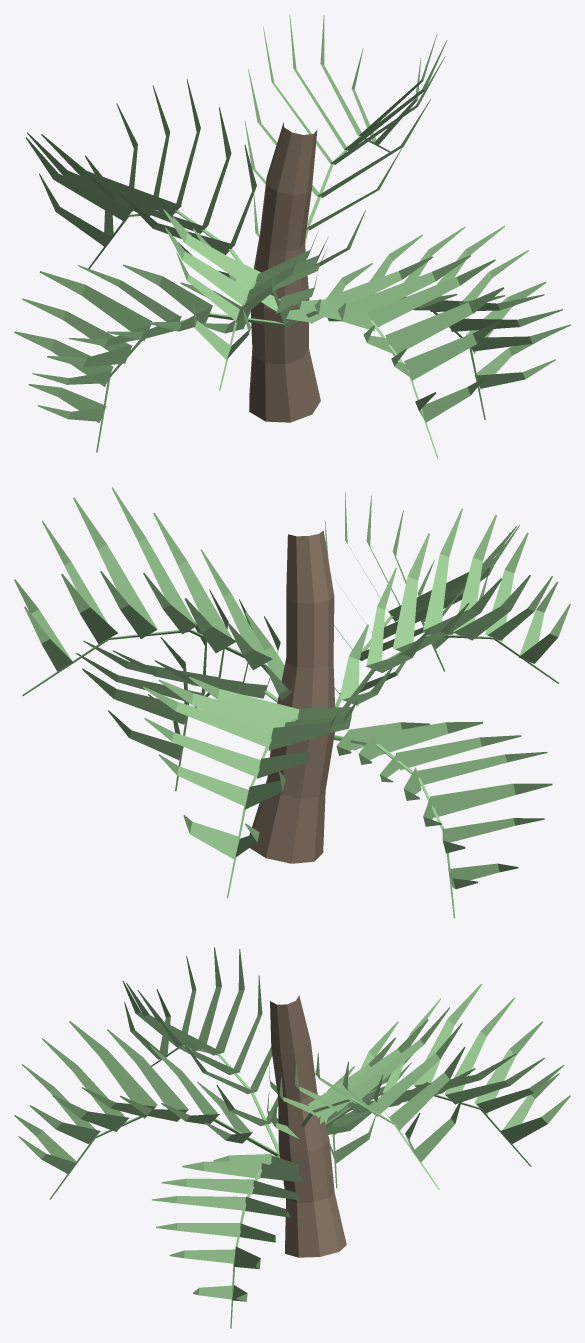
Rendered from nature_palm_young.glb.
The picture shows the model from 3 angles, top to bottom: view 1: azimuth 30°, elevation 25°; view 2: azimuth 150°, elevation 25°; view 3: azimuth 270°, elevation 25°; orthographic projection. The views are drawn at different scales.
Visible parts, largest first — view 1: world; view 2: world; view 3: world.
Part boxes in pixels (left/top/right/bottom): world: left=14, top=14, right=570, bottom=458; world: left=14, top=487, right=570, bottom=918; world: left=14, top=947, right=570, bottom=1328.
Size of the model in its own units: 1.72 by 1.11 by 2.
